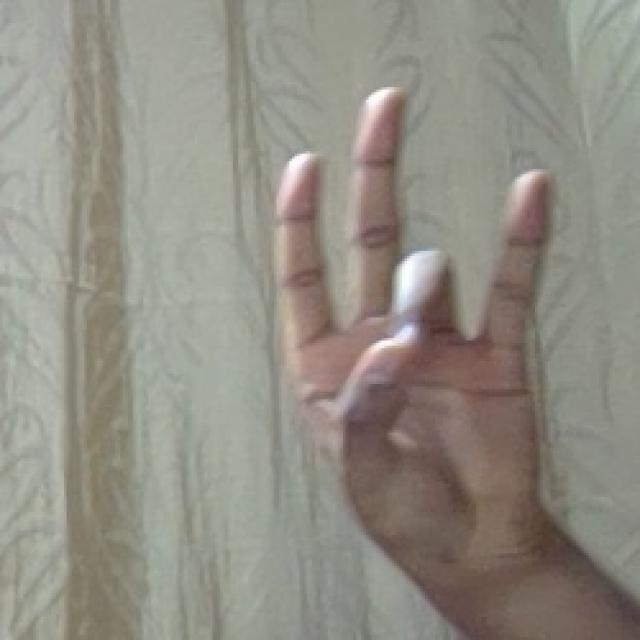Numeric-7: (283, 86, 560, 595)
